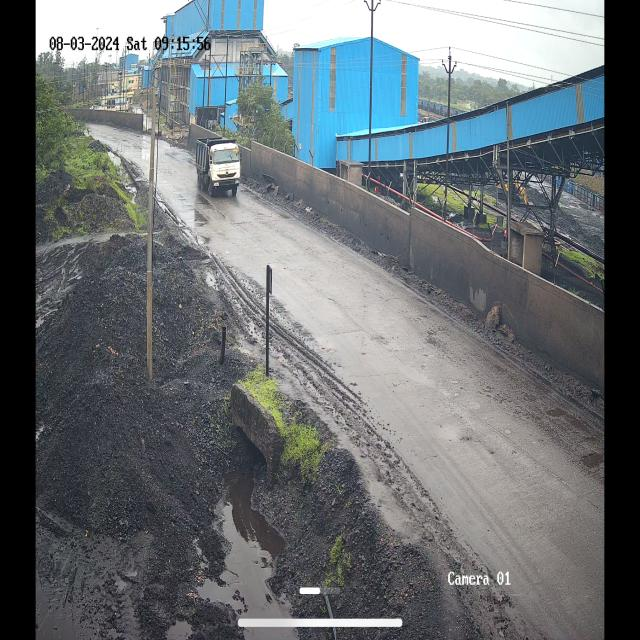dump_truck: (192, 137, 241, 195)
